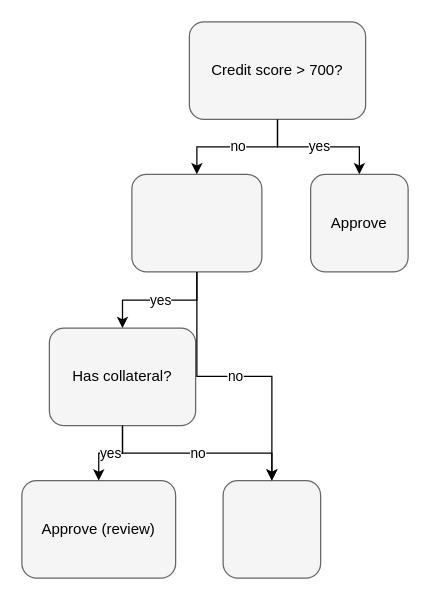
Image size: 430x600. Some labels were removed from this diagram. Here are the shapes that lost their labels. From the top down, the centre of each, then its label:
At point (196, 222): "Income > 50k?".
At point (271, 528): "Reject".
